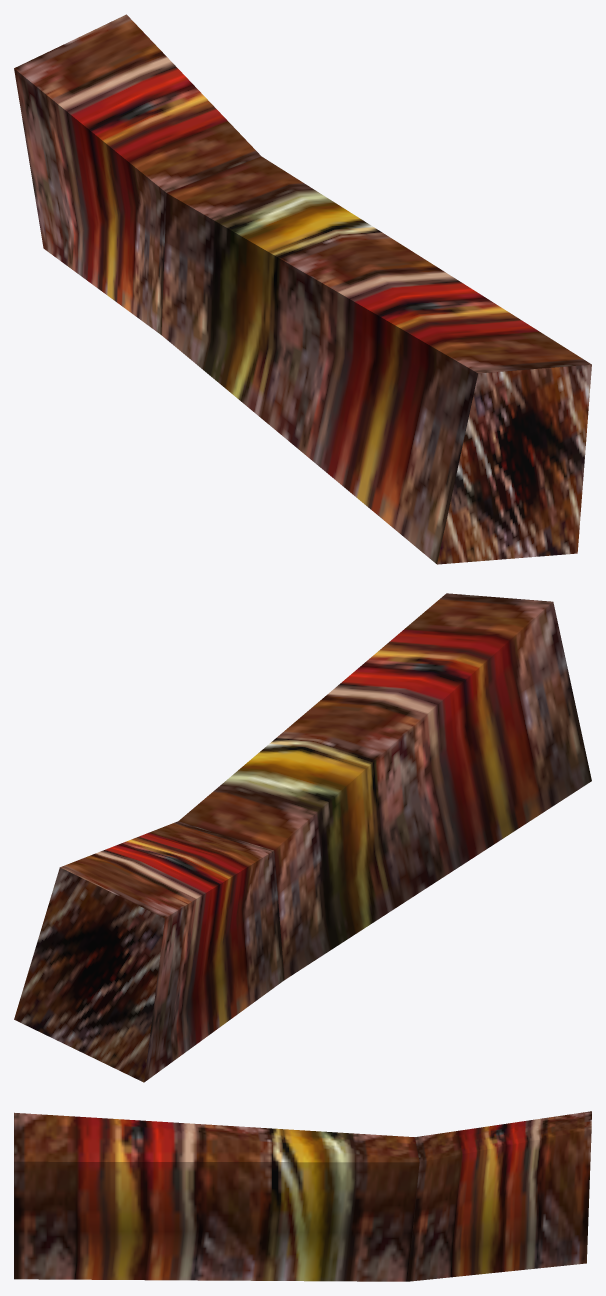
Rendered from edb_food_meat_kabob_l2.fbx.
The picture shows the model from 3 angles, top to bottom: view 1: azimuth 30°, elevation 25°; view 2: azimuth 150°, elevation 25°; view 3: azimuth 270°, elevation 25°; orthographic projection. The views are drawn at different scales.
Parts seen in each view (by area): view 1: mesh_node; view 2: mesh_node; view 3: mesh_node.
Part boxes in pixels (<box>): mesh_node: <box>14,14,591,564</box>; mesh_node: <box>14,593,591,1082</box>; mesh_node: <box>14,1111,591,1281</box>.
Bounding box in the file's own units: 0.0562 × 0.0658 × 0.2365.
Materials: 1 (1 with a texture image).
